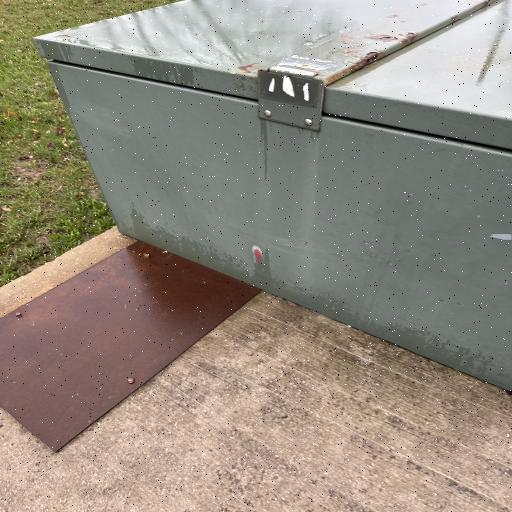Electrical Box: (33, 1, 509, 388)
